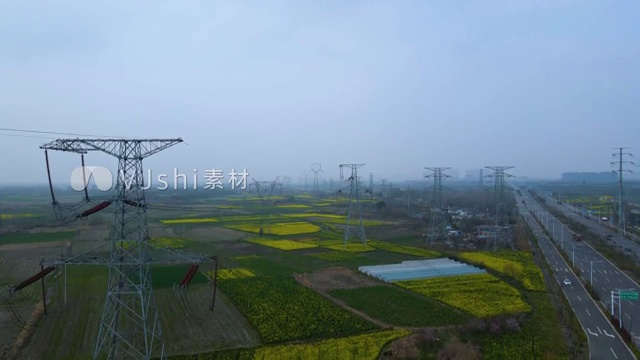tower_body: (35, 129, 204, 359), (483, 164, 519, 256), (336, 159, 368, 244), (420, 163, 453, 243)
tower_foot: (93, 301, 167, 356)
tower_head: (39, 133, 200, 159)
